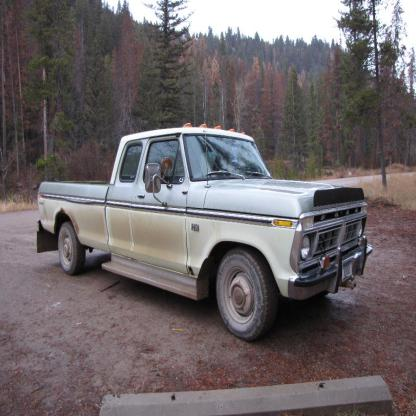Truck: (36, 123, 372, 341)
